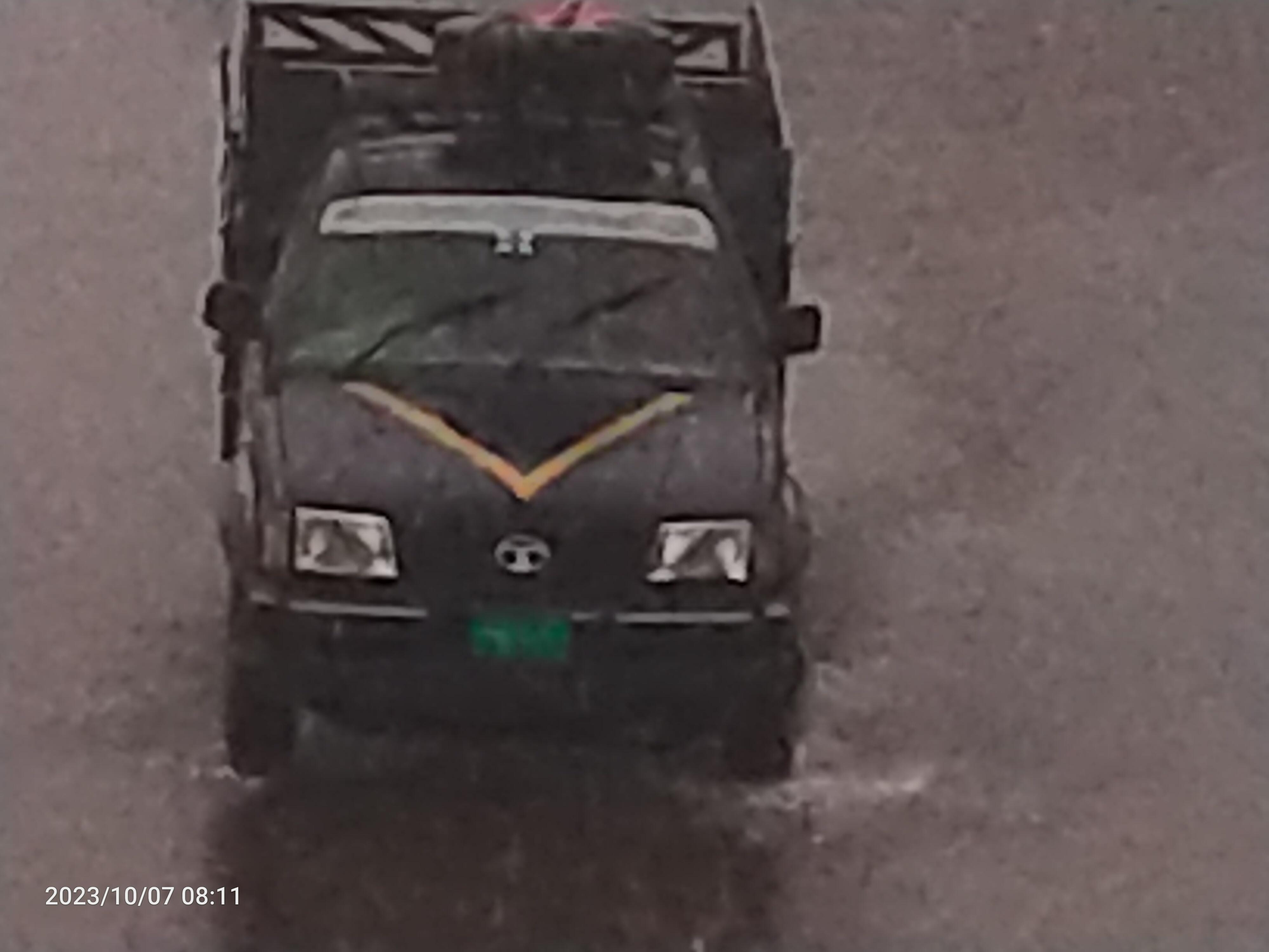Truck: (68, 0, 870, 867)
